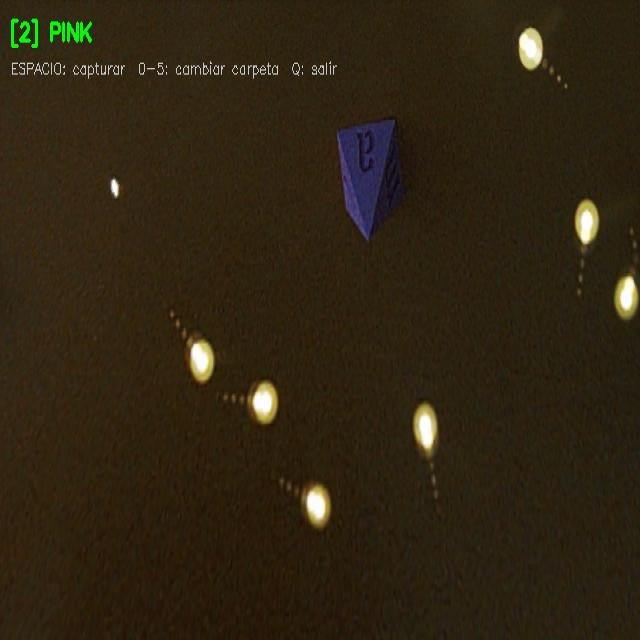pink: (336, 119, 403, 239)
